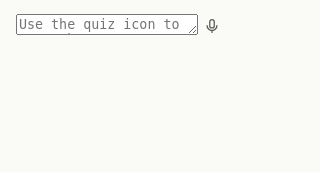
Test: typing while dictating keeps the words so far and stops listening
Click the button named "Dictate" at (212,26), box [198,12,226,40]
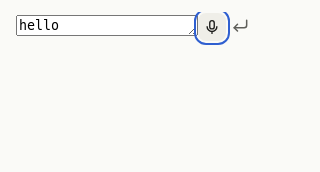
Type "!" into the text box named "Message" at (107,26), box [16,15,198,36]
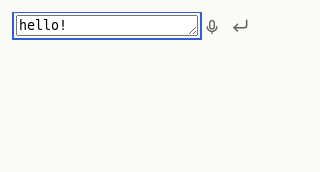
Result: the text box named "Message" holds "hello!" at [16,15,198,36]
